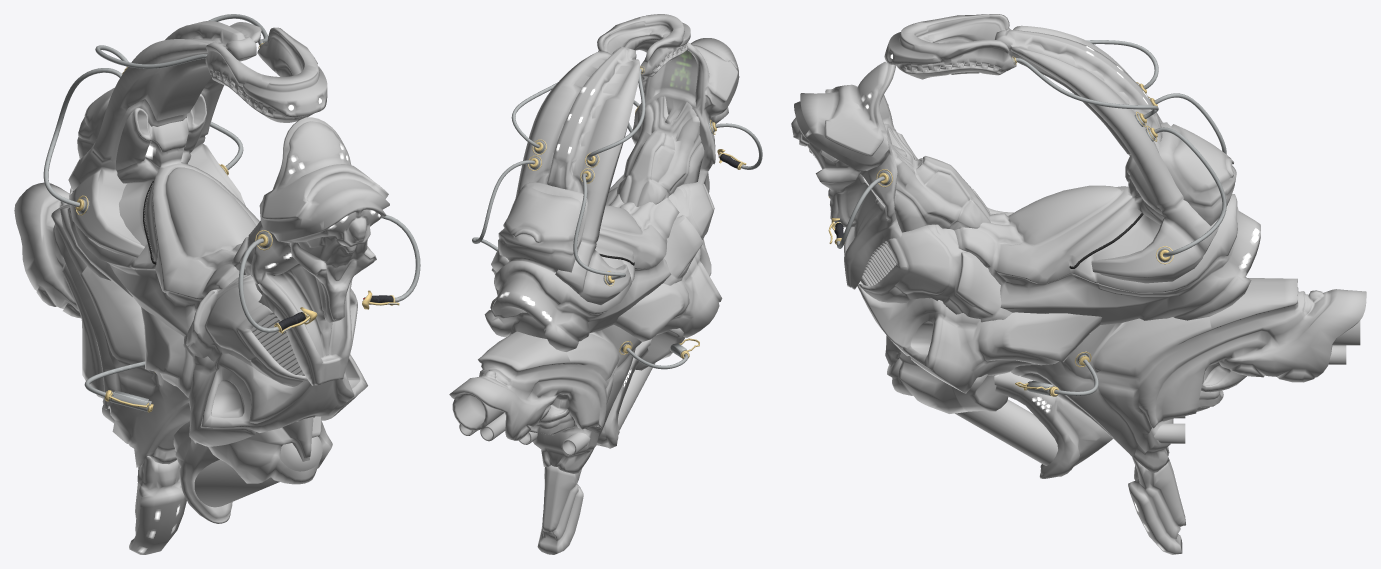
3 renders of one model, left to right at view 1: azimuth 30°, elevation 25°; view 2: azimuth 150°, elevation 25°; view 3: azimuth 270°, elevation 25°, orthographic. The views are drawn at different scales.
Visible parts, largest first — view 1: siege_low, devant_low, moteur_low, arceau_low, grille_low, arceau_top_low, ventilation_low, cryo_low, radar_low, tube_cryo__low, cryo_01_low, animate.010_low (+6 smaller); view 2: siege_low, arceau_low, moteur_low, devant_low, ordinateur_low, grille_low, arceau_top_low, ventilation_low, radar_low, reacteur_low, animate.010_low, cryo_01_low (+4 smaller); view 3: siege_low, moteur_low, arceau_low, devant_low, grille_low, ventilation_low, arceau_top_low, ordinateur_low, cryo_01_low, cryo_low, radar_low, tube_cryo__low (+4 smaller).
Part boxes in pixels (left/top/right/bottom): siege_low: left=60, top=87, right=259, bottom=336; devant_low: left=251, top=117, right=389, bottom=385; moteur_low: left=14, top=182, right=190, bottom=467; arceau_low: left=68, top=21, right=261, bottom=257; grille_low: left=141, top=307, right=367, bottom=446; arceau_top_low: left=205, top=27, right=327, bottom=122; ventilation_low: left=183, top=274, right=357, bottom=386; cryo_low: left=208, top=416, right=332, bottom=484; radar_low: left=129, top=456, right=186, bottom=554; tube_cryo__low: left=194, top=436, right=322, bottom=507; cryo_01_low: left=173, top=421, right=232, bottom=523; animate.010_low: left=43, top=68, right=243, bottom=206; siege_low: left=484, top=182, right=679, bottom=351; arceau_low: left=491, top=46, right=639, bottom=304; moteur_low: left=449, top=324, right=641, bottom=473; devant_low: left=631, top=38, right=739, bottom=192; ordinateur_low: left=617, top=96, right=704, bottom=206; grille_low: left=614, top=238, right=722, bottom=341; arceau_top_low: left=597, top=14, right=690, bottom=77; ventilation_low: left=609, top=174, right=714, bottom=285; radar_low: left=537, top=465, right=583, bottom=554; reacteur_low: left=452, top=392, right=590, bottom=455; animate.010_low: left=472, top=160, right=625, bottom=279; cryo_01_low: left=596, top=339, right=651, bottom=448; siege_low: left=954, top=122, right=1260, bottom=324; moteur_low: left=1010, top=278, right=1366, bottom=473; arceau_low: left=994, top=25, right=1219, bottom=283; devant_low: left=791, top=61, right=906, bottom=289; grille_low: left=857, top=281, right=1101, bottom=393; ventilation_low: left=858, top=224, right=1012, bottom=322; arceau_top_low: left=884, top=14, right=1016, bottom=79; ordinateur_low: left=888, top=127, right=990, bottom=232; cryo_01_low: left=994, top=371, right=1112, bottom=478; cryo_low: left=885, top=335, right=1008, bottom=413; radar_low: left=1128, top=457, right=1185, bottom=554; tube_cryo__low: left=887, top=358, right=1057, bottom=465.
Size of the model in its own units: 2.66 by 6.46 by 6.42.
